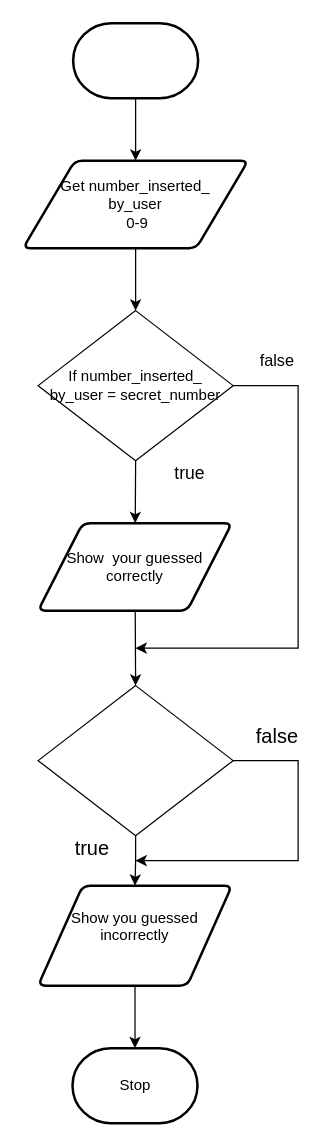
The diagram is 330 pixels wide and 1145 high, and some of its shapes have lost their labels. The shapes that lost their labels are listed below. From the top down, each one's centre as x and y in pixels, then its label:
the point at 135,60: Start
the point at 135,760: If number_inserted_ by_user does not = hidden_number
